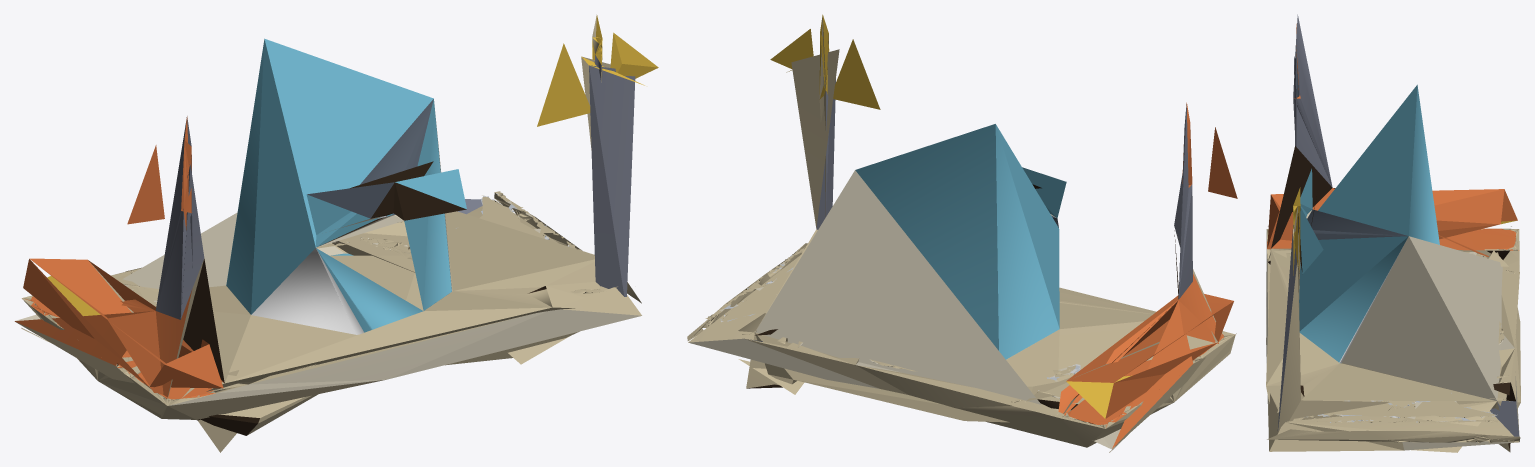
The model's file is float-trellis-B.glb.
The picture shows the model from 3 angles, left to right: view 1: azimuth 30°, elevation 25°; view 2: azimuth 150°, elevation 25°; view 3: azimuth 270°, elevation 25°; orthographic projection. The views are drawn at different scales.
Parts seen in each view (by area): view 1: float; view 2: float; view 3: float.
Part boxes in pixels (left/top/right/bottom): float: left=14, top=14, right=658, bottom=452; float: left=687, top=14, right=1237, bottom=452; float: left=1266, top=14, right=1520, bottom=452.
Size of the model in its own units: 2.86 by 1.75 by 1.38.
